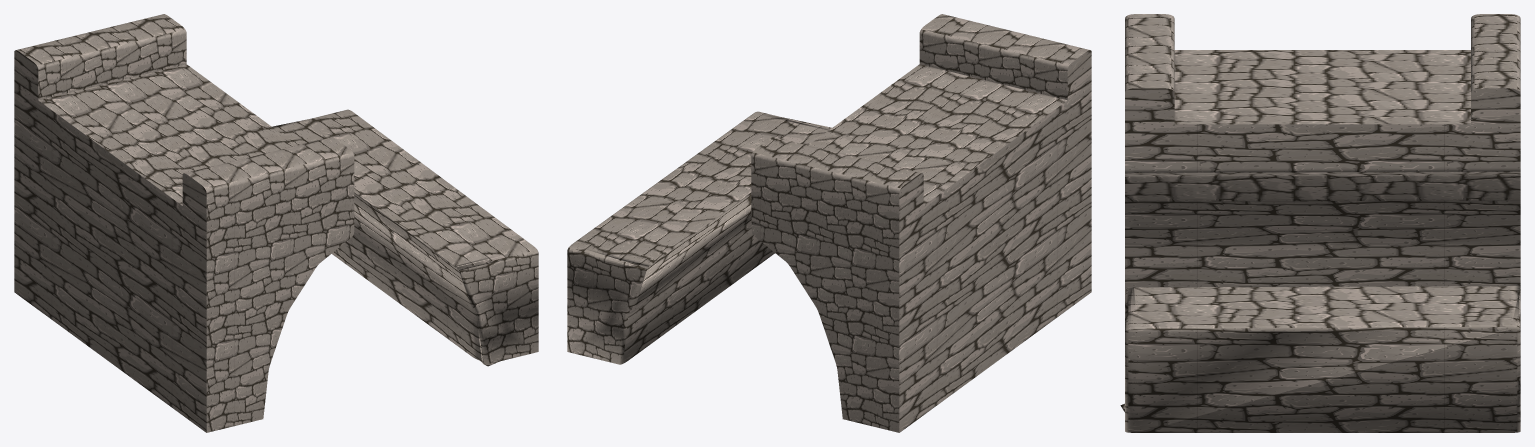
The model's file is Puente_Piedra_Roto_1_Texturav2.FBX.
3 renders of one model, left to right at view 1: azimuth 30°, elevation 25°; view 2: azimuth 150°, elevation 25°; view 3: azimuth 270°, elevation 25°, orthographic. The views are drawn at different scales.
Visible parts, largest first — view 1: Puente_Piedra1; view 2: Puente_Piedra1; view 3: Puente_Piedra1.
Part boxes in pixels (x1,y1,x2,y2): Puente_Piedra1: (14,14,538,432); Puente_Piedra1: (567,14,1091,432); Puente_Piedra1: (1120,14,1520,432).
Bounding box in the file's own units: 10.03 × 10.11 × 7.01.
